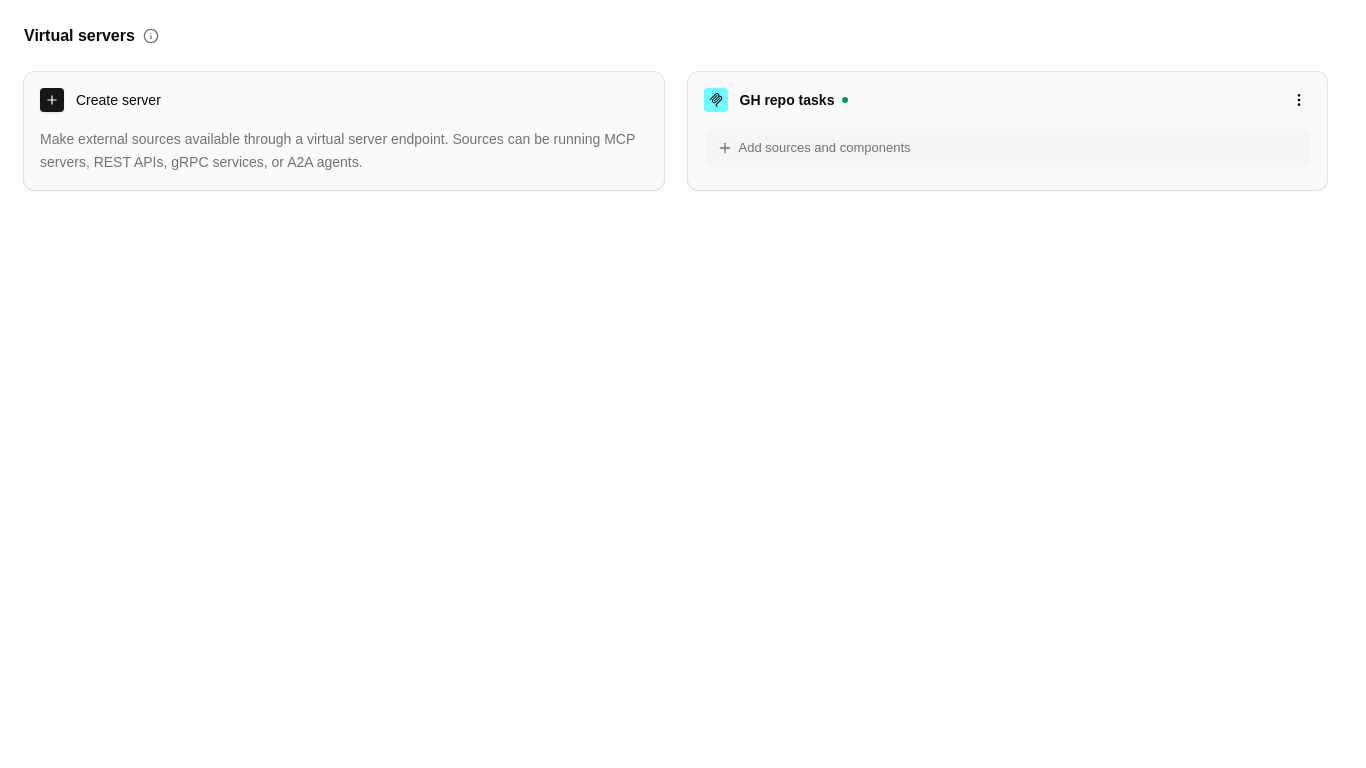
Scenario: Gateways › requires confirmation before deactivating a virtual server
Click the button named "Actions for GH repo tasks".
click(1299, 100)  # box top-left (1287, 88), bottom-right (1311, 112)
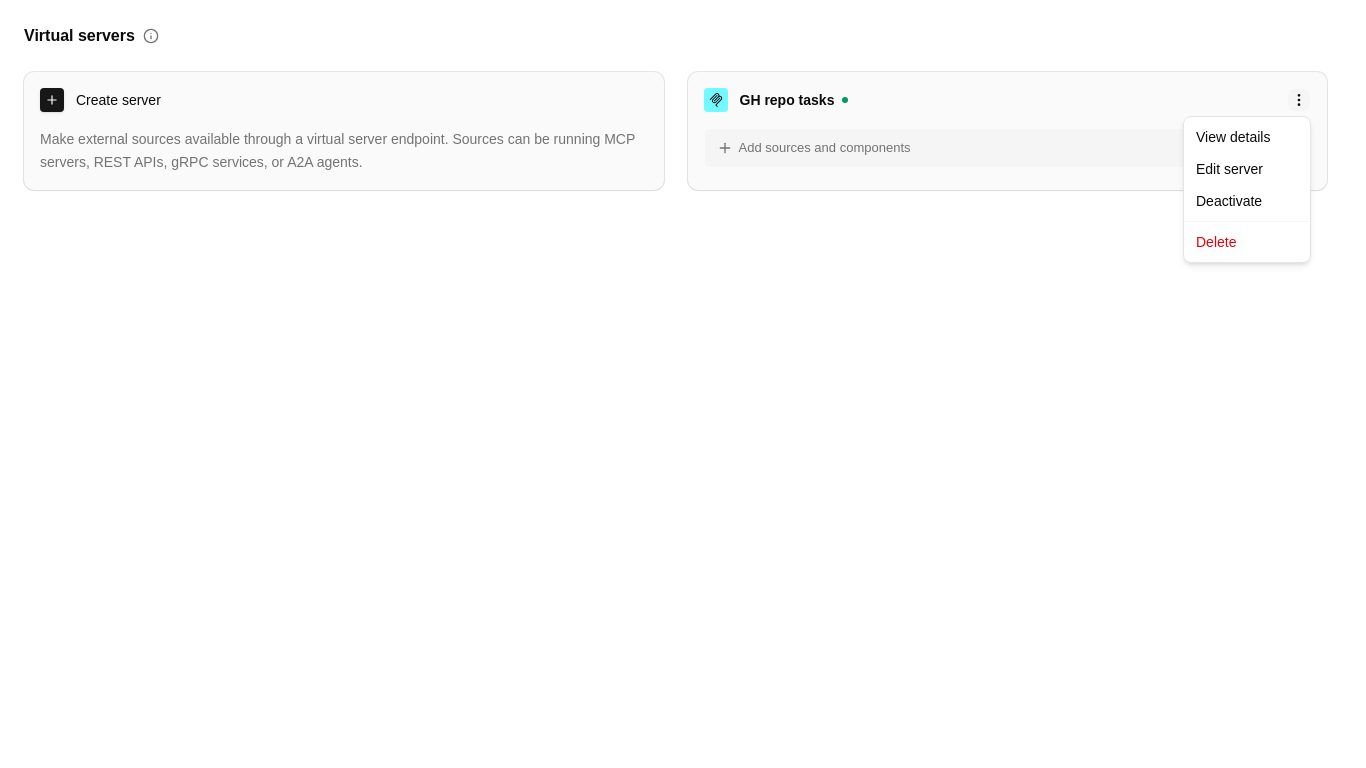
Click the menu item "Deactivate".
click(1229, 201)  # box top-left (1196, 193), bottom-right (1262, 209)
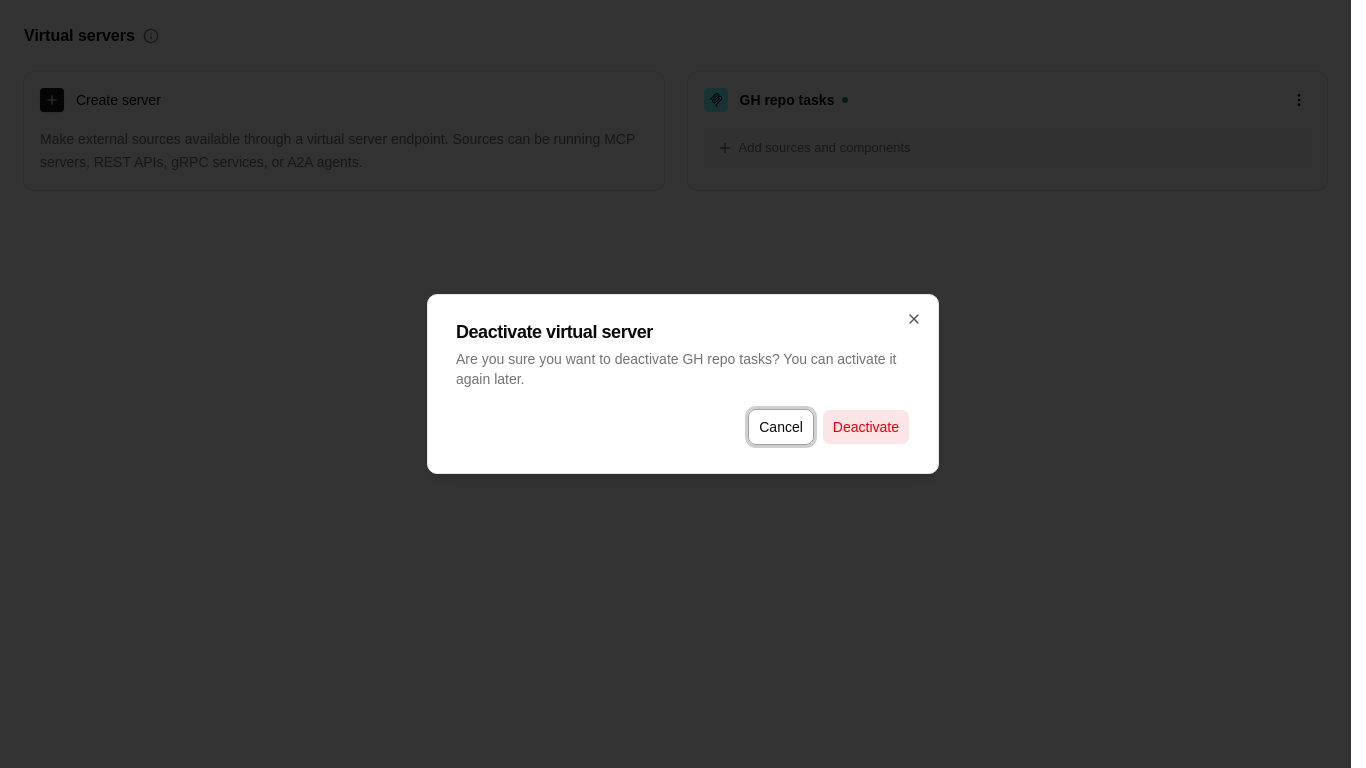
expect the heading "Deactivate virtual server" is shown: met, box top-left (456, 322), bottom-right (653, 342)
expect the text "deactivate GH repo tasks" is shown: met, box top-left (456, 351), bottom-right (896, 387)
Click the button "Deactivate".
click(866, 427)  # box top-left (822, 409), bottom-right (910, 445)
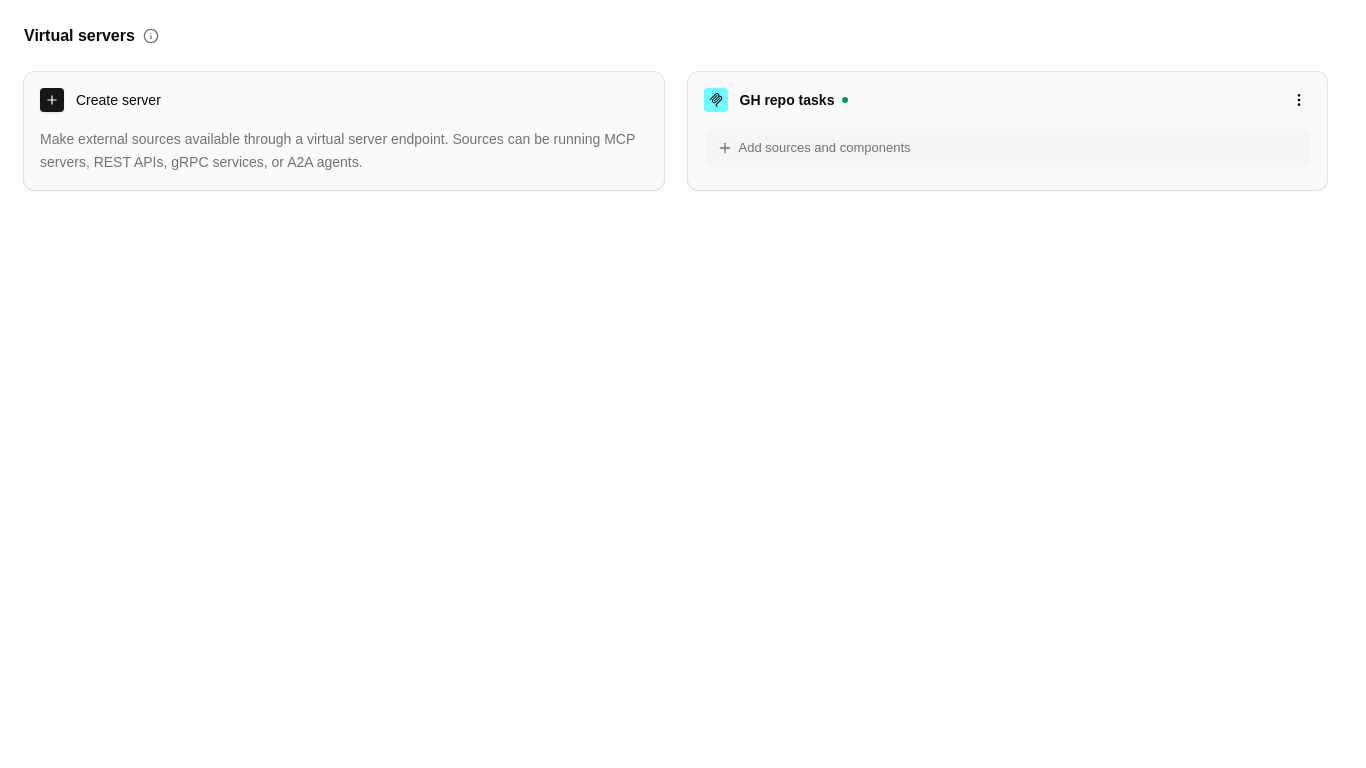
expect the dialog is gone: met
